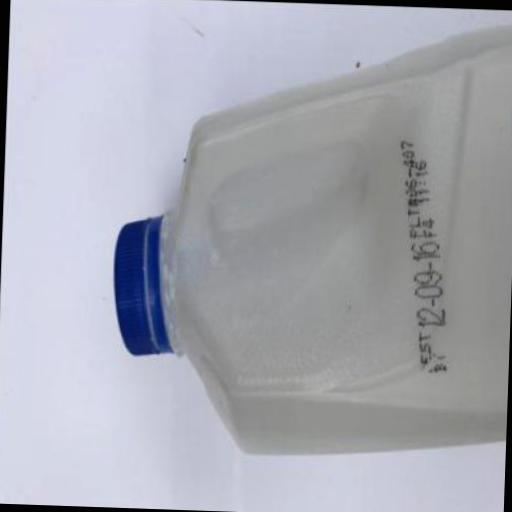plastic: (105, 4, 512, 461), (108, 210, 176, 356)
